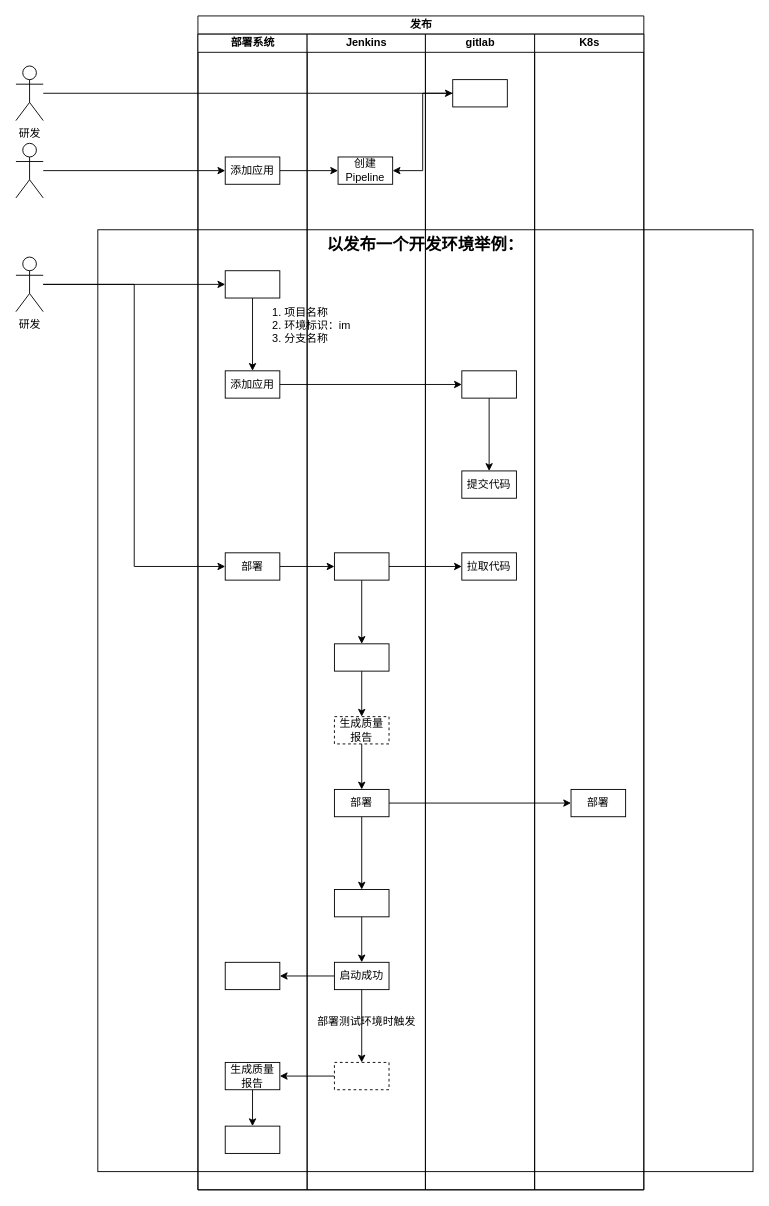
This 769x1206 diagram has some shape labels left out. Here are the shapes that lost their labels. From the top down, the centre of each, then its label:
the point at 479,93: 创建仓库
the point at 29,170: 运维
the point at 252,284: 创建项目
the point at 488,384: 自动创建分支
the point at 361,566: 触发流水线
the point at 361,657: 打包构建
the point at 361,903: 启动检测
the point at 252,975: 发布完成
the point at 361,1076: 自动化接口测试
the point at 252,1139: 结束
